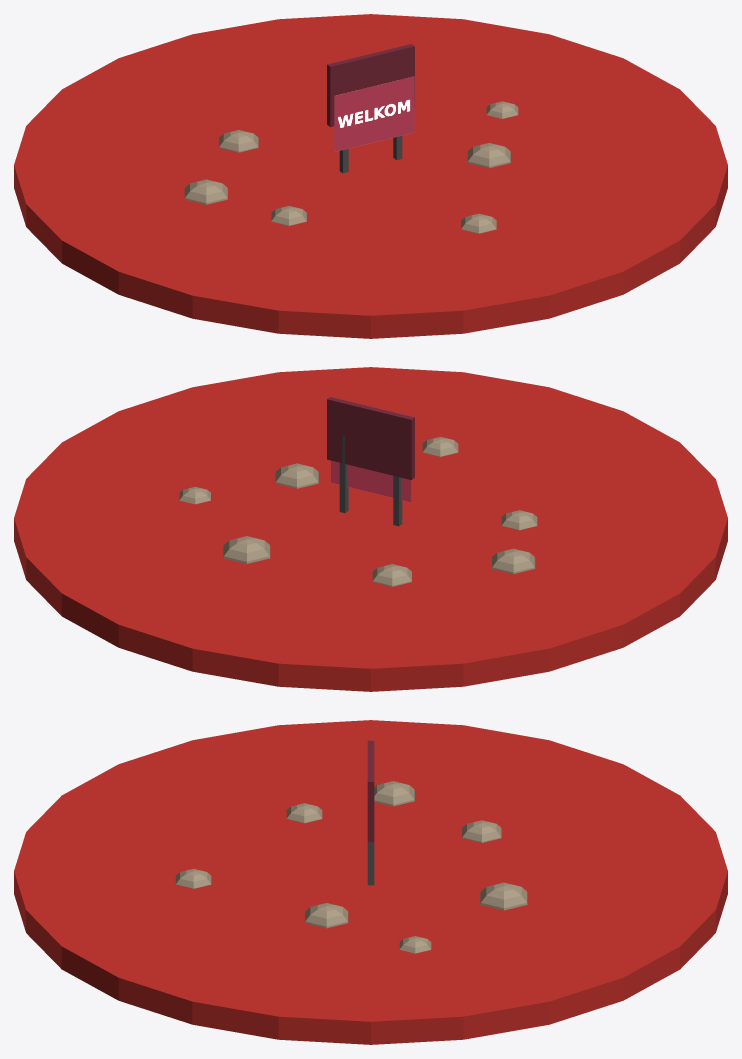
The model's file is rb_welkom.glb.
3 renders of one model, top to bottom at view 1: azimuth 30°, elevation 25°; view 2: azimuth 150°, elevation 25°; view 3: azimuth 270°, elevation 25°, orthographic.
Parts seen in each view (by area): view 1: rb_welkom_lod0; view 2: rb_welkom_lod0; view 3: rb_welkom_lod0.
Boxes of the visible parts, x1=… form: rb_welkom_lod0: x1=14, y1=14, x2=727, y2=338; rb_welkom_lod0: x1=14, y1=367, x2=727, y2=691; rb_welkom_lod0: x1=14, y1=720, x2=727, y2=1044.
Size of what is drawn, in the model's own units: 32.2 by 6.6 by 32.2.
7 materials, 1 textured.
